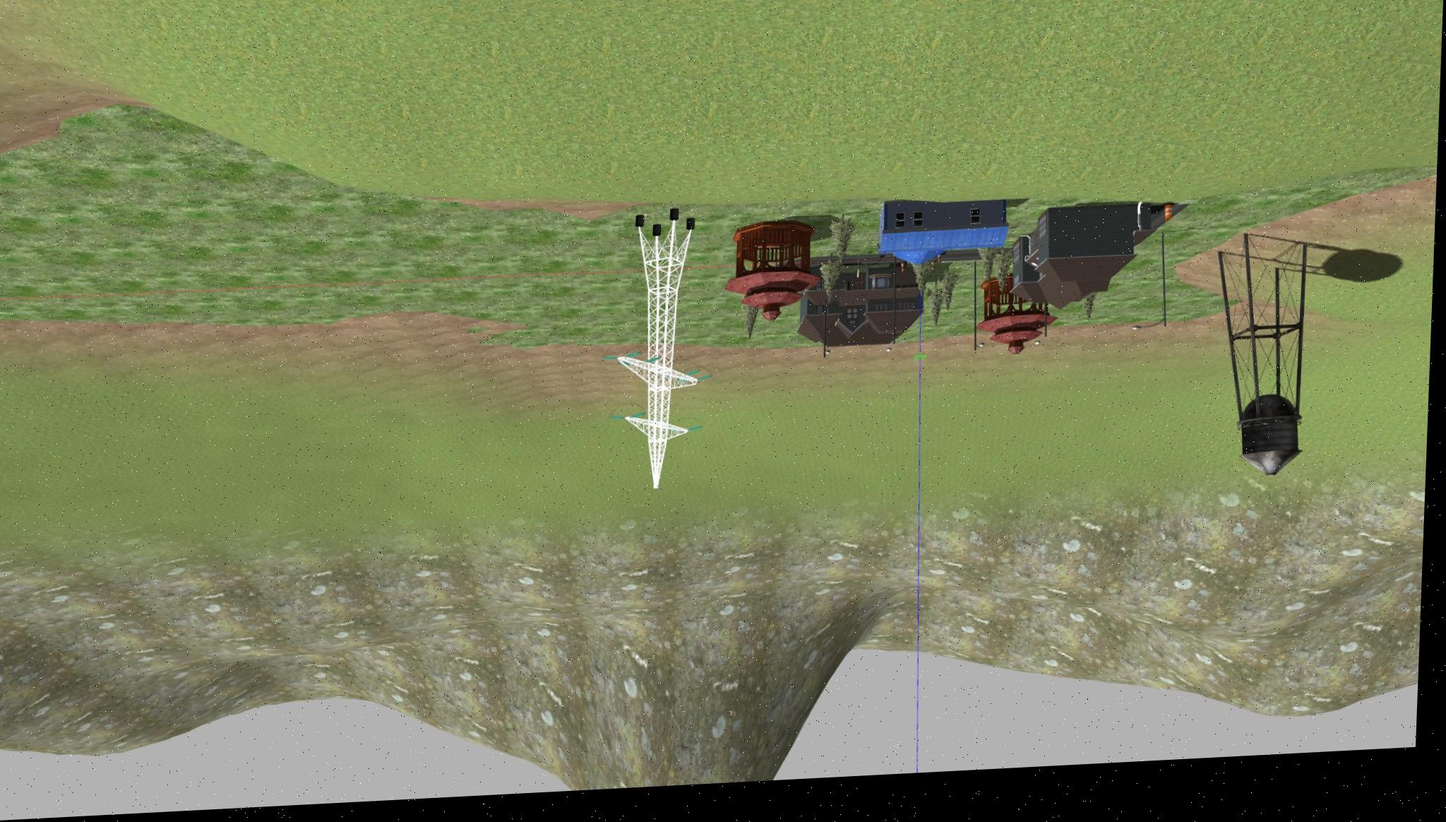tower: (611, 227, 701, 491)
